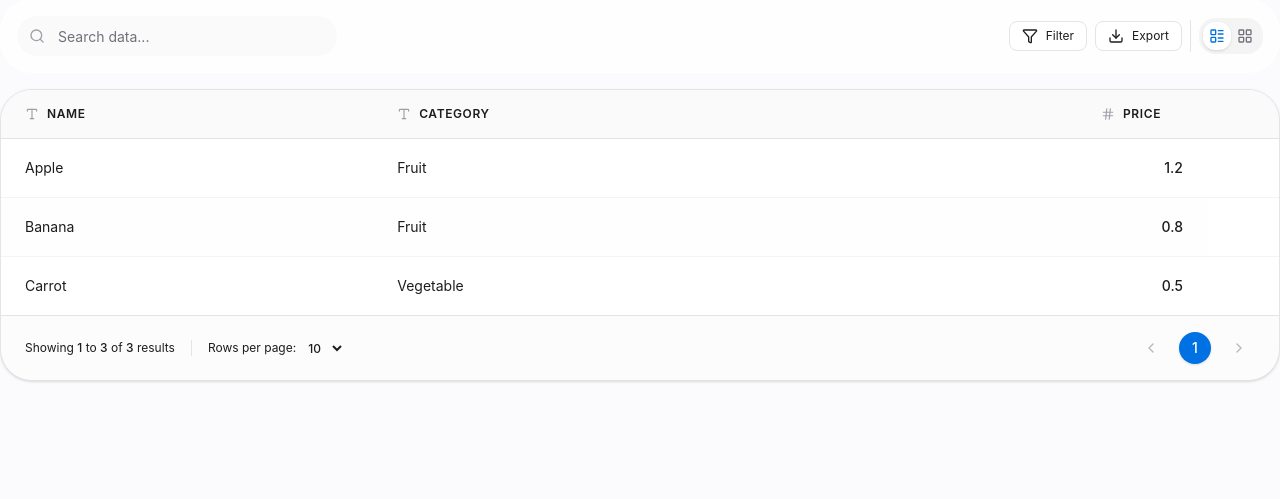
Test: DataTable › shows empty state when no results match
The width and height of the screenshot is (1280, 499).
Type "Zucchini" into the field with placeholder "Search data..." at (177, 36), box [17,16,337,56]
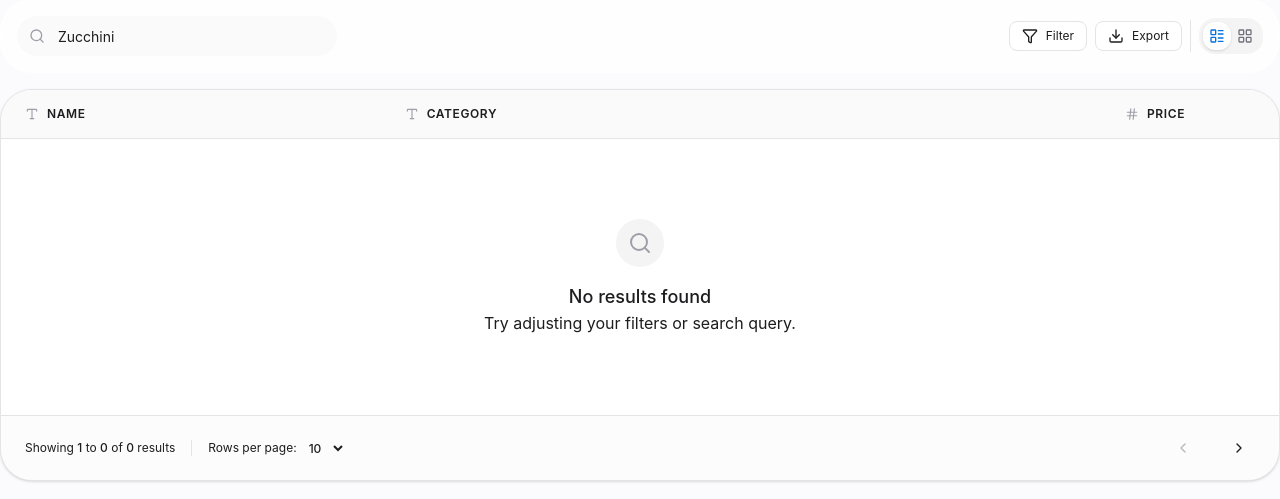
expect the heading "No results found" is shown: met, box [569,286,711,307]
